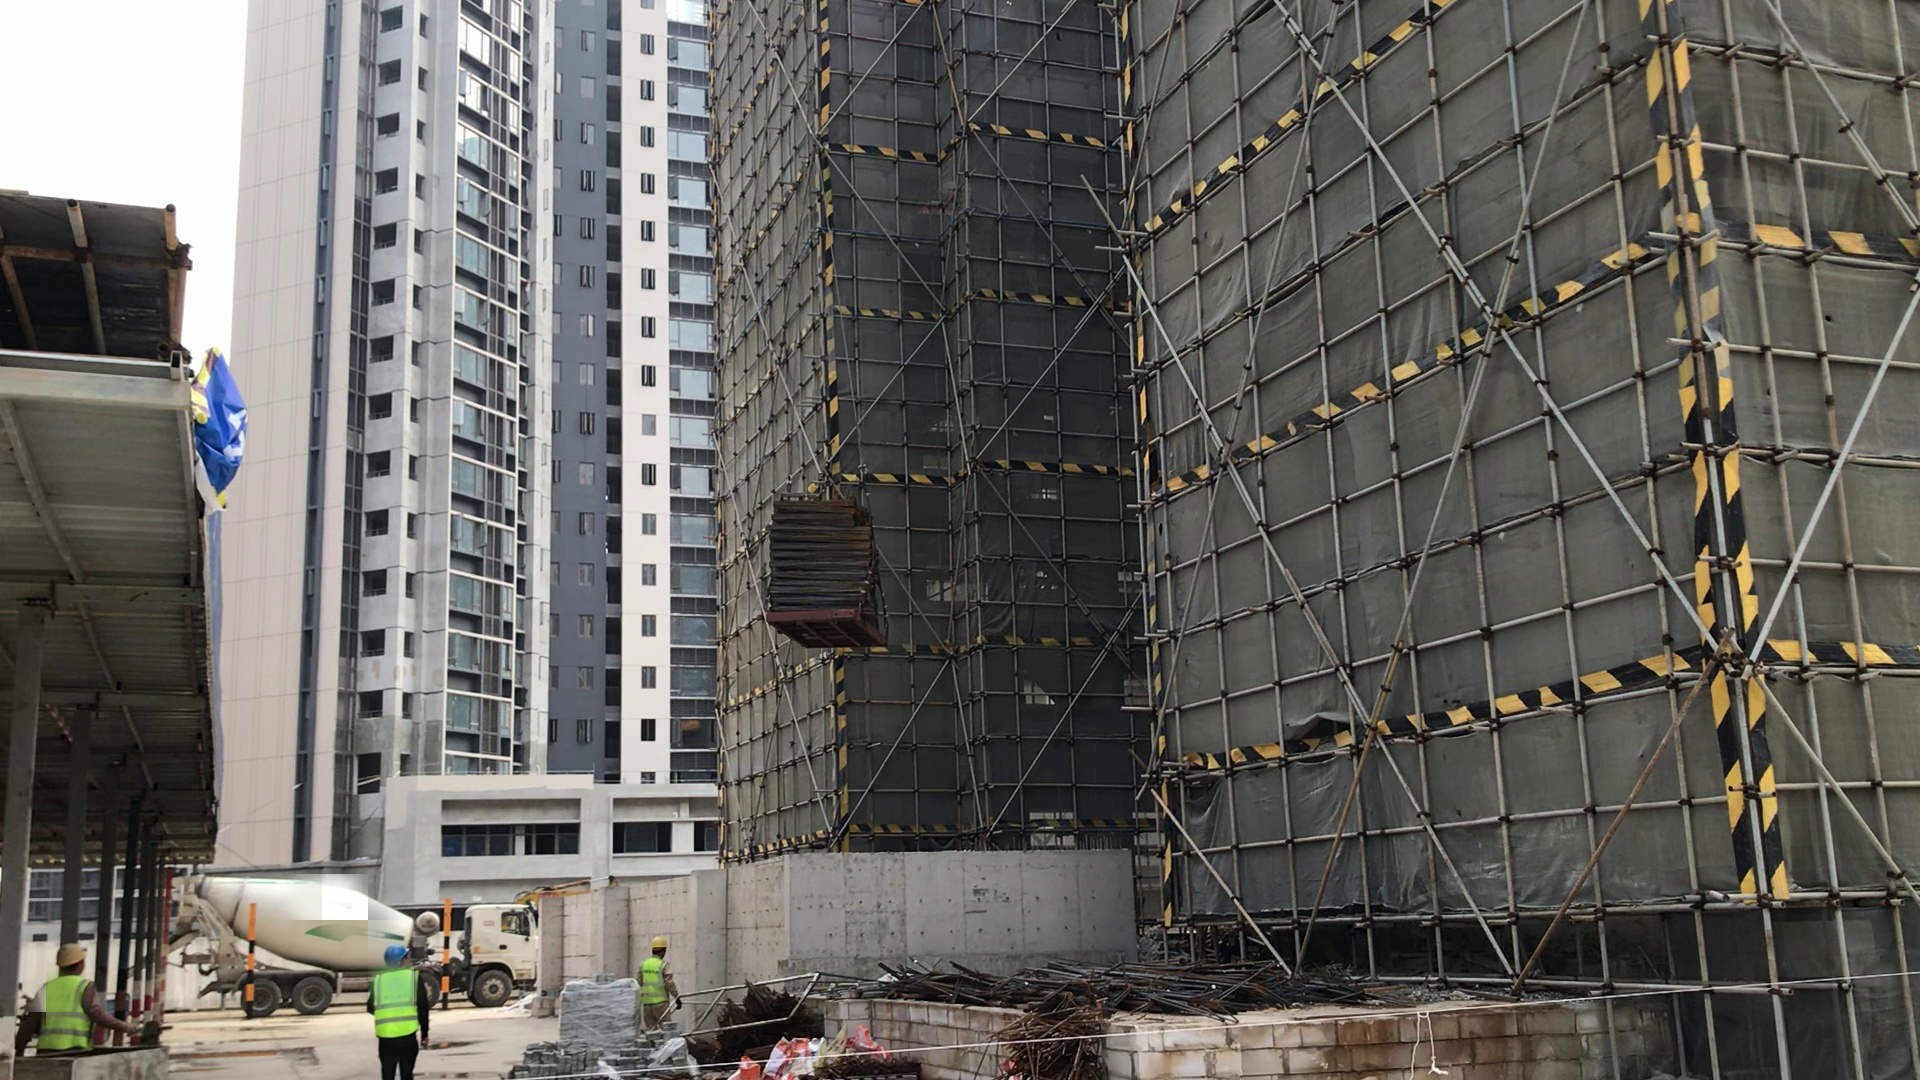helmet: (55, 940, 97, 973), (379, 940, 412, 966), (646, 936, 674, 953)
person: (13, 936, 143, 1057), (363, 941, 440, 1080), (629, 935, 690, 1036)
vest: (31, 974, 105, 1057), (371, 968, 431, 1043), (640, 959, 672, 1011)
